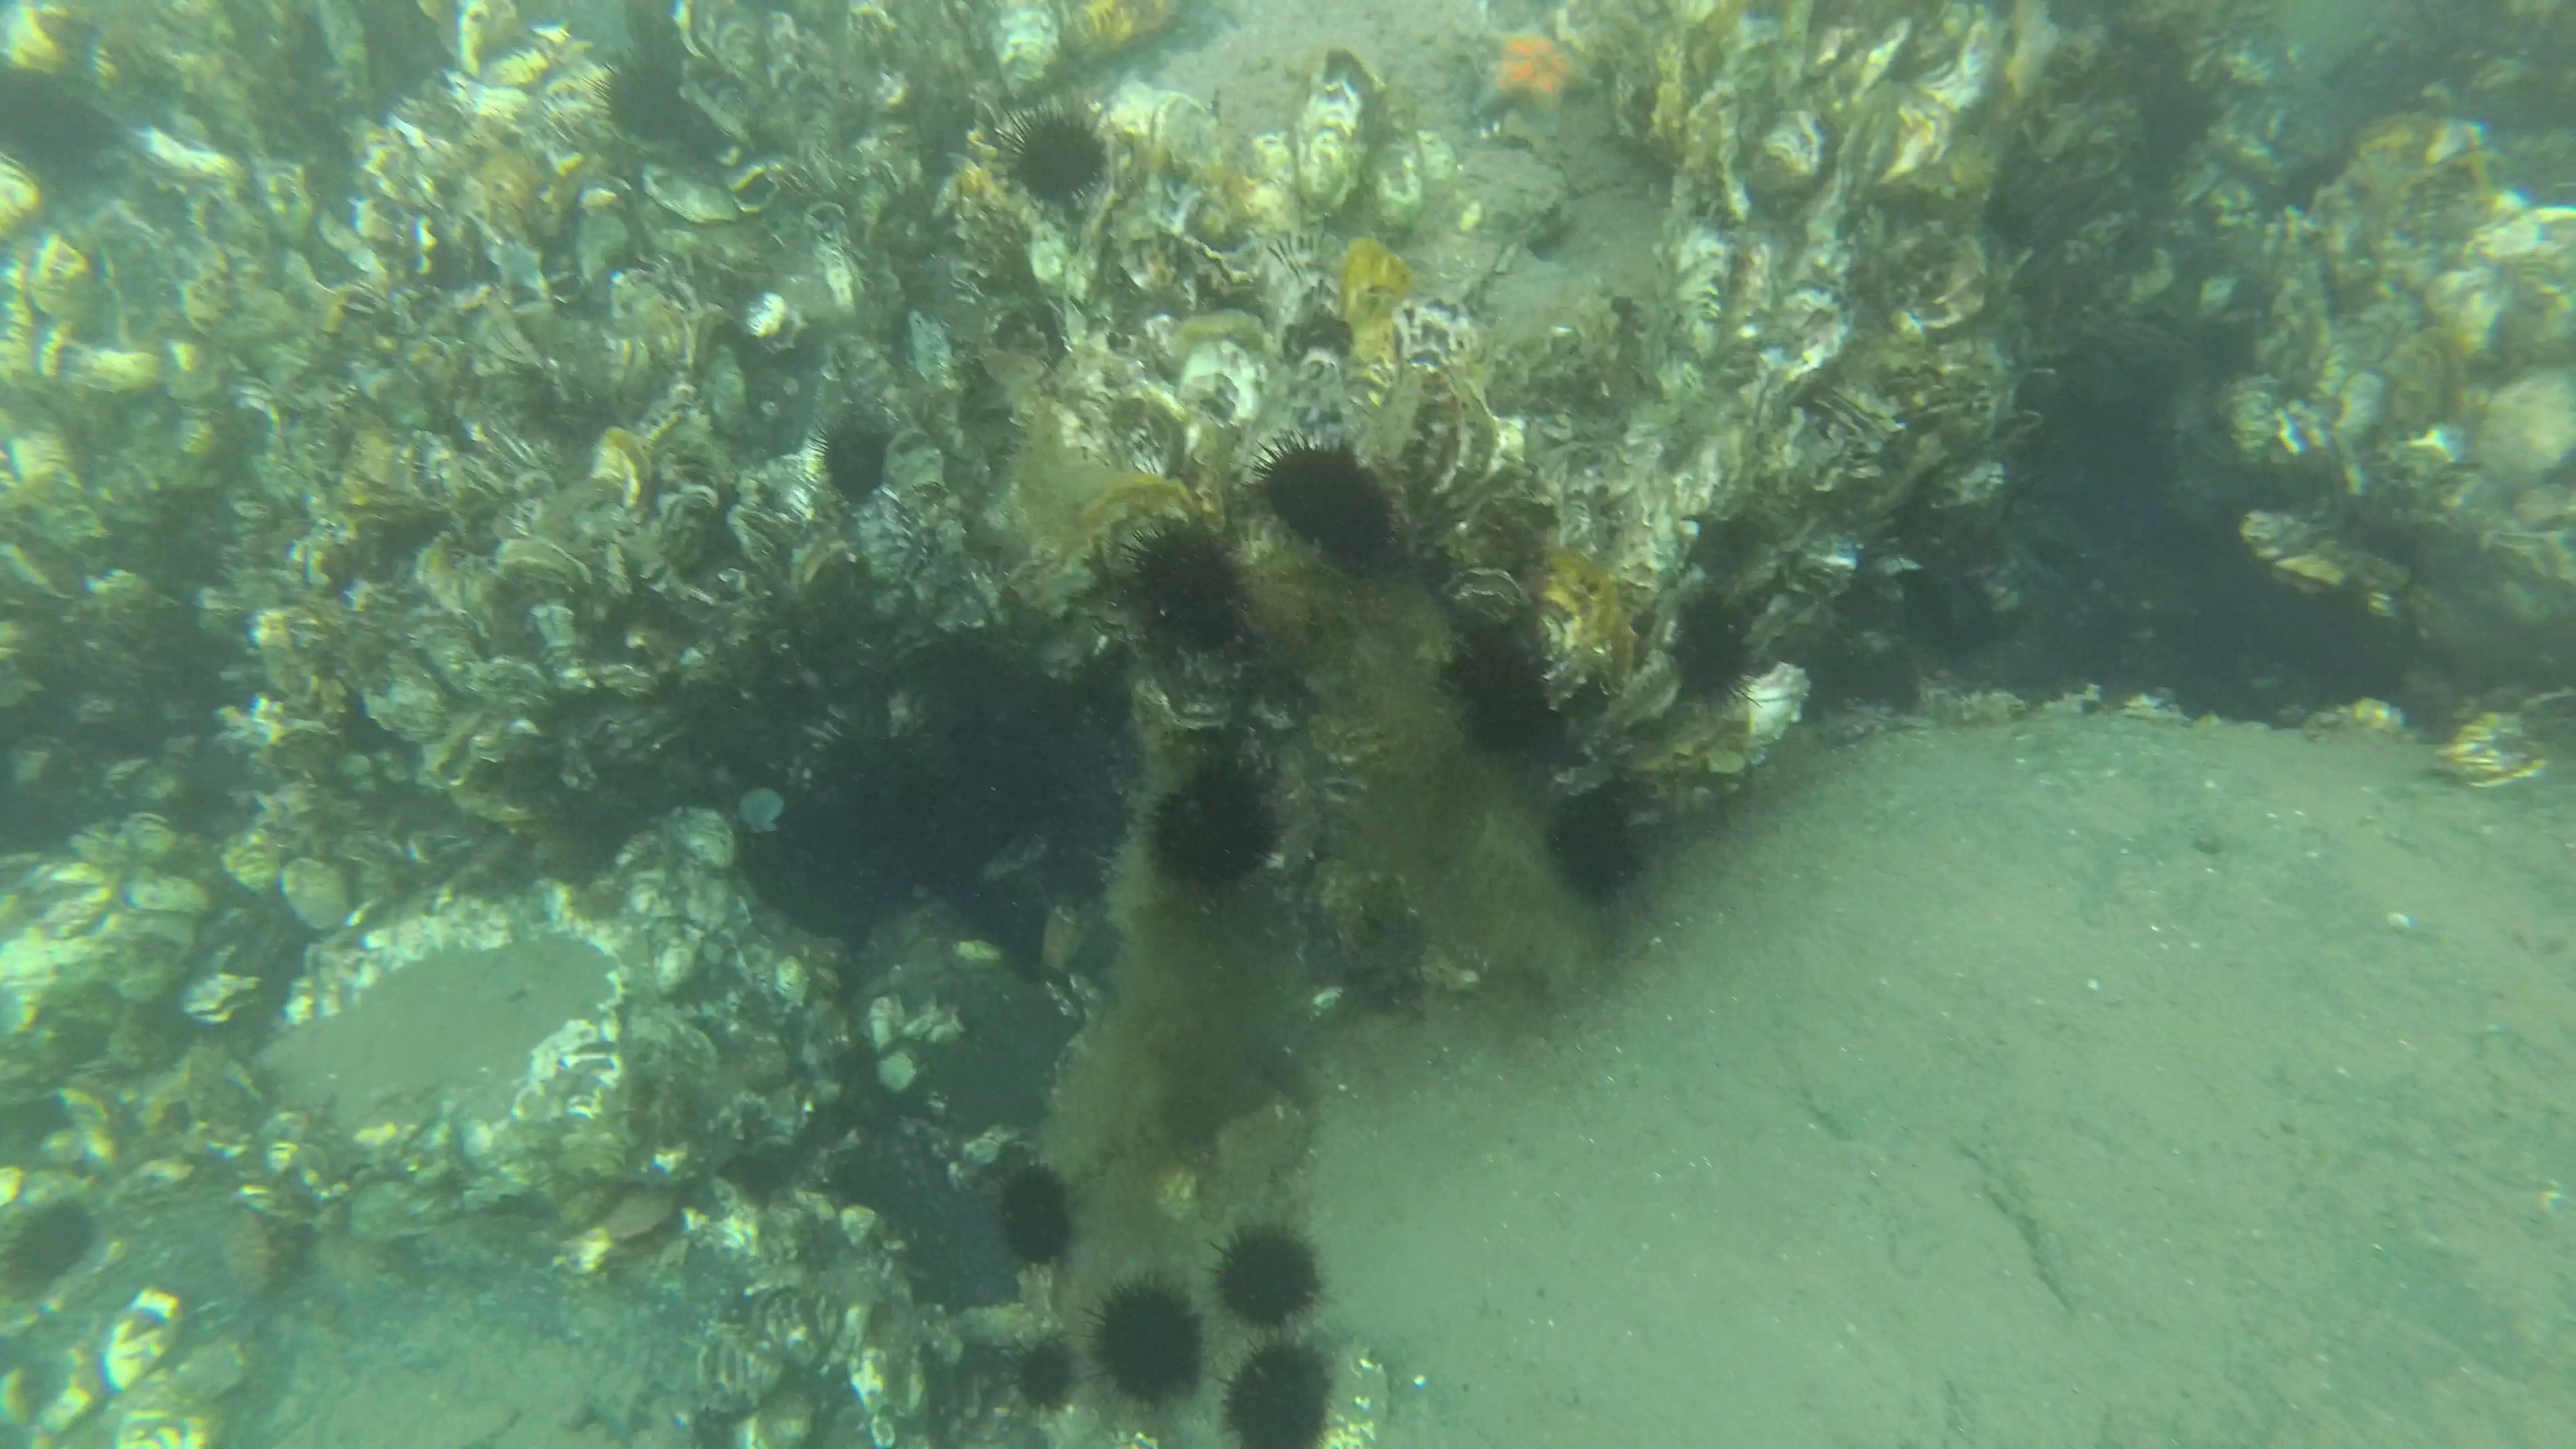echinus: (1141, 743, 1290, 904), (1253, 423, 1405, 577), (1086, 1260, 1212, 1417), (1116, 515, 1253, 660), (1203, 1207, 1330, 1332), (1640, 580, 1753, 704), (1541, 796, 1654, 918), (1224, 1339, 1350, 1449), (1430, 628, 1541, 750), (994, 106, 1120, 214), (4, 1191, 106, 1318), (982, 1152, 1088, 1272), (589, 53, 699, 154), (805, 403, 899, 506), (1005, 1330, 1090, 1421)
starfish: (1468, 9, 1617, 147)
